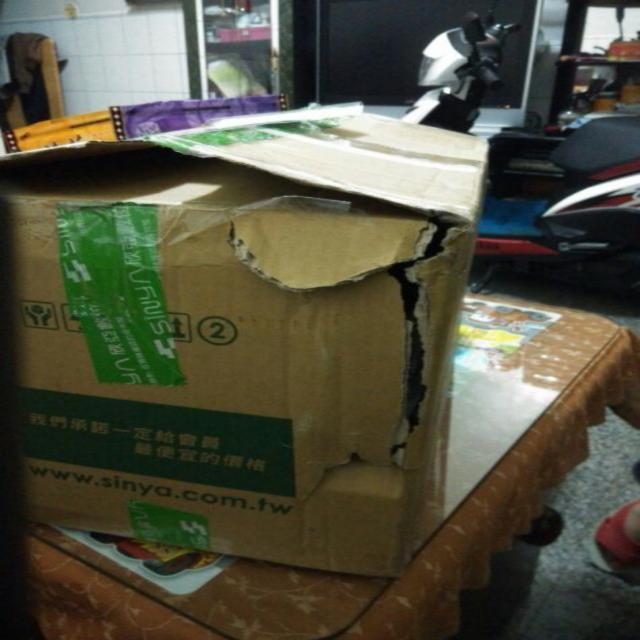hole: (369, 219, 457, 475)
